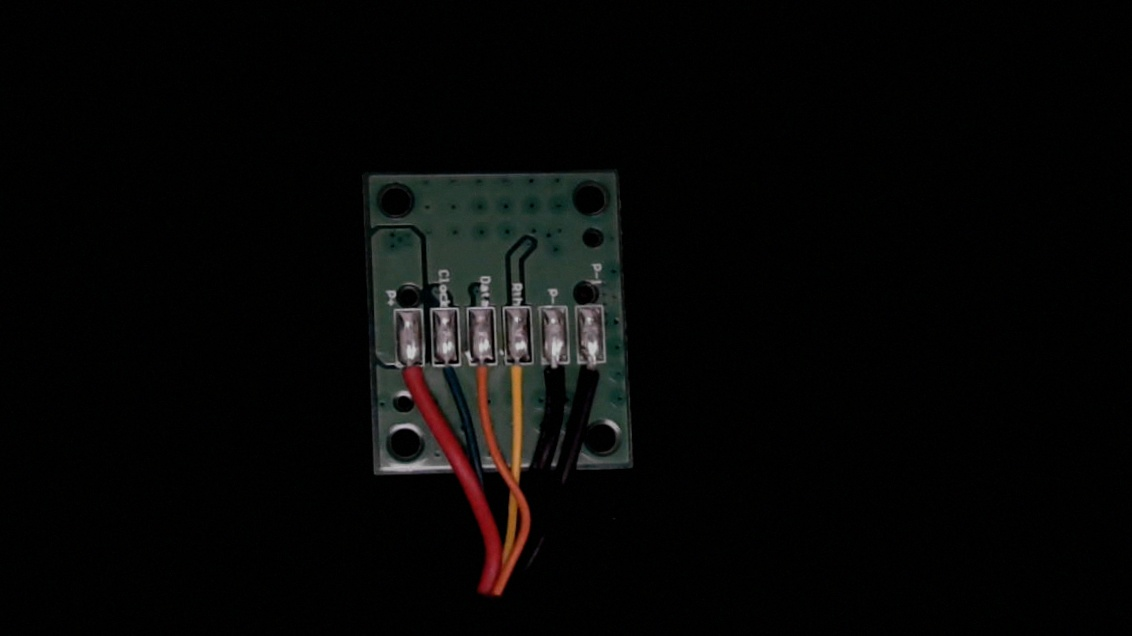Black: (538, 349, 572, 416)
Black1: (578, 350, 610, 411)
Green: (433, 348, 464, 401)
Orange: (468, 349, 500, 415)
Red: (393, 349, 427, 414)
Yellow: (502, 349, 536, 417)
